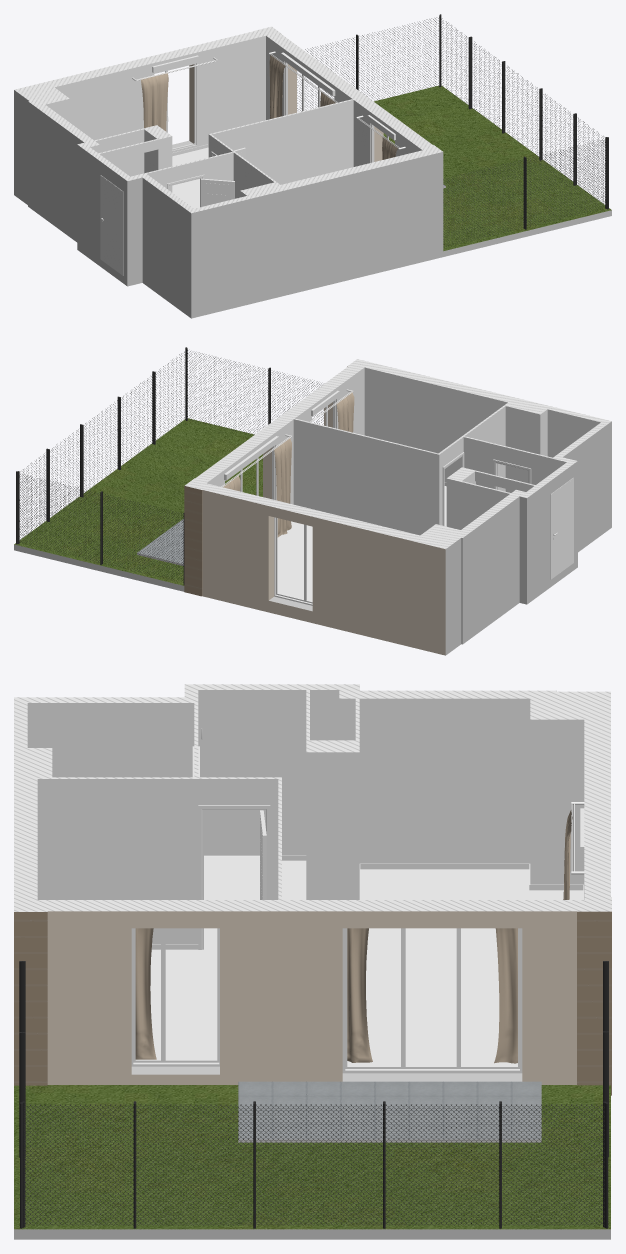
The picture shows the model from 3 angles, top to bottom: view 1: azimuth 30°, elevation 25°; view 2: azimuth 150°, elevation 25°; view 3: azimuth 270°, elevation 25°; orthographic projection. The views are drawn at different scales.
Visible parts, largest first — view 1: masonry_01, ground_garden_01, fence_01, section_face_01, windows_01, door_01, curtain_03, ground_living_01, curtain_01, interior_door_panel_02, curtain_bar_01; view 2: masonry_01, ground_garden_01, fence_01, section_face_01, ground_living_01, door_01, windows_01, curtain_01, ground_terrace_01, interior_door_frame_01, curtain_02; view 3: masonry_01, ground_garden_01, fence_01, section_face_01, ground_terrace_01, ground_living_01, door_01, windows_01, ground_bed_01, ground_kitchen_01, curtain_01, ground_hall_01 (+3 smaller).
Boxes of the visible parts, <box> form: masonry_01: <box>14,36,611,318</box>; ground_garden_01: <box>374,85,611,251</box>; fence_01: <box>297,14,608,246</box>; section_face_01: <box>14,26,442,213</box>; windows_01: <box>152,52,395,162</box>; door_01: <box>100,175,123,275</box>; curtain_03: <box>141,72,168,131</box>; ground_living_01: <box>172,147,208,208</box>; curtain_01: <box>269,54,335,118</box>; interior_door_panel_02: <box>200,178,234,206</box>; curtain_bar_01: <box>132,51,405,149</box>; masonry_01: <box>14,366,611,655</box>; ground_garden_01: <box>14,418,262,585</box>; fence_01: <box>16,347,323,584</box>; section_face_01: <box>185,359,611,549</box>; ground_living_01: <box>277,521,312,601</box>; door_01: <box>550,477,573,579</box>; windows_01: <box>224,390,339,605</box>; curtain_01: <box>223,438,291,537</box>; ground_terrace_01: <box>137,519,183,564</box>; interior_door_frame_01: <box>442,452,531,525</box>; curtain_02: <box>336,392,354,432</box>; masonry_01: <box>14,690,611,1239</box>; ground_garden_01: <box>14,1085,610,1229</box>; fence_01: <box>19,961,608,1228</box>; section_face_01: <box>14,684,611,911</box>; ground_terrace_01: <box>238,1081,541,1139</box>; ground_living_01: <box>347,928,517,1065</box>; door_01: <box>199,714,277,856</box>; windows_01: <box>131,808,584,1073</box>; ground_bed_01: <box>150,949,217,1059</box>; ground_kitchen_01: <box>360,869,583,899</box>; curtain_01: <box>347,928,517,1063</box>; ground_hall_01: <box>204,856,306,949</box>.
Bounding box in the file's own units: 11.75 × 2.7 × 7.96.
Materials: 33 (32 with a texture image).
